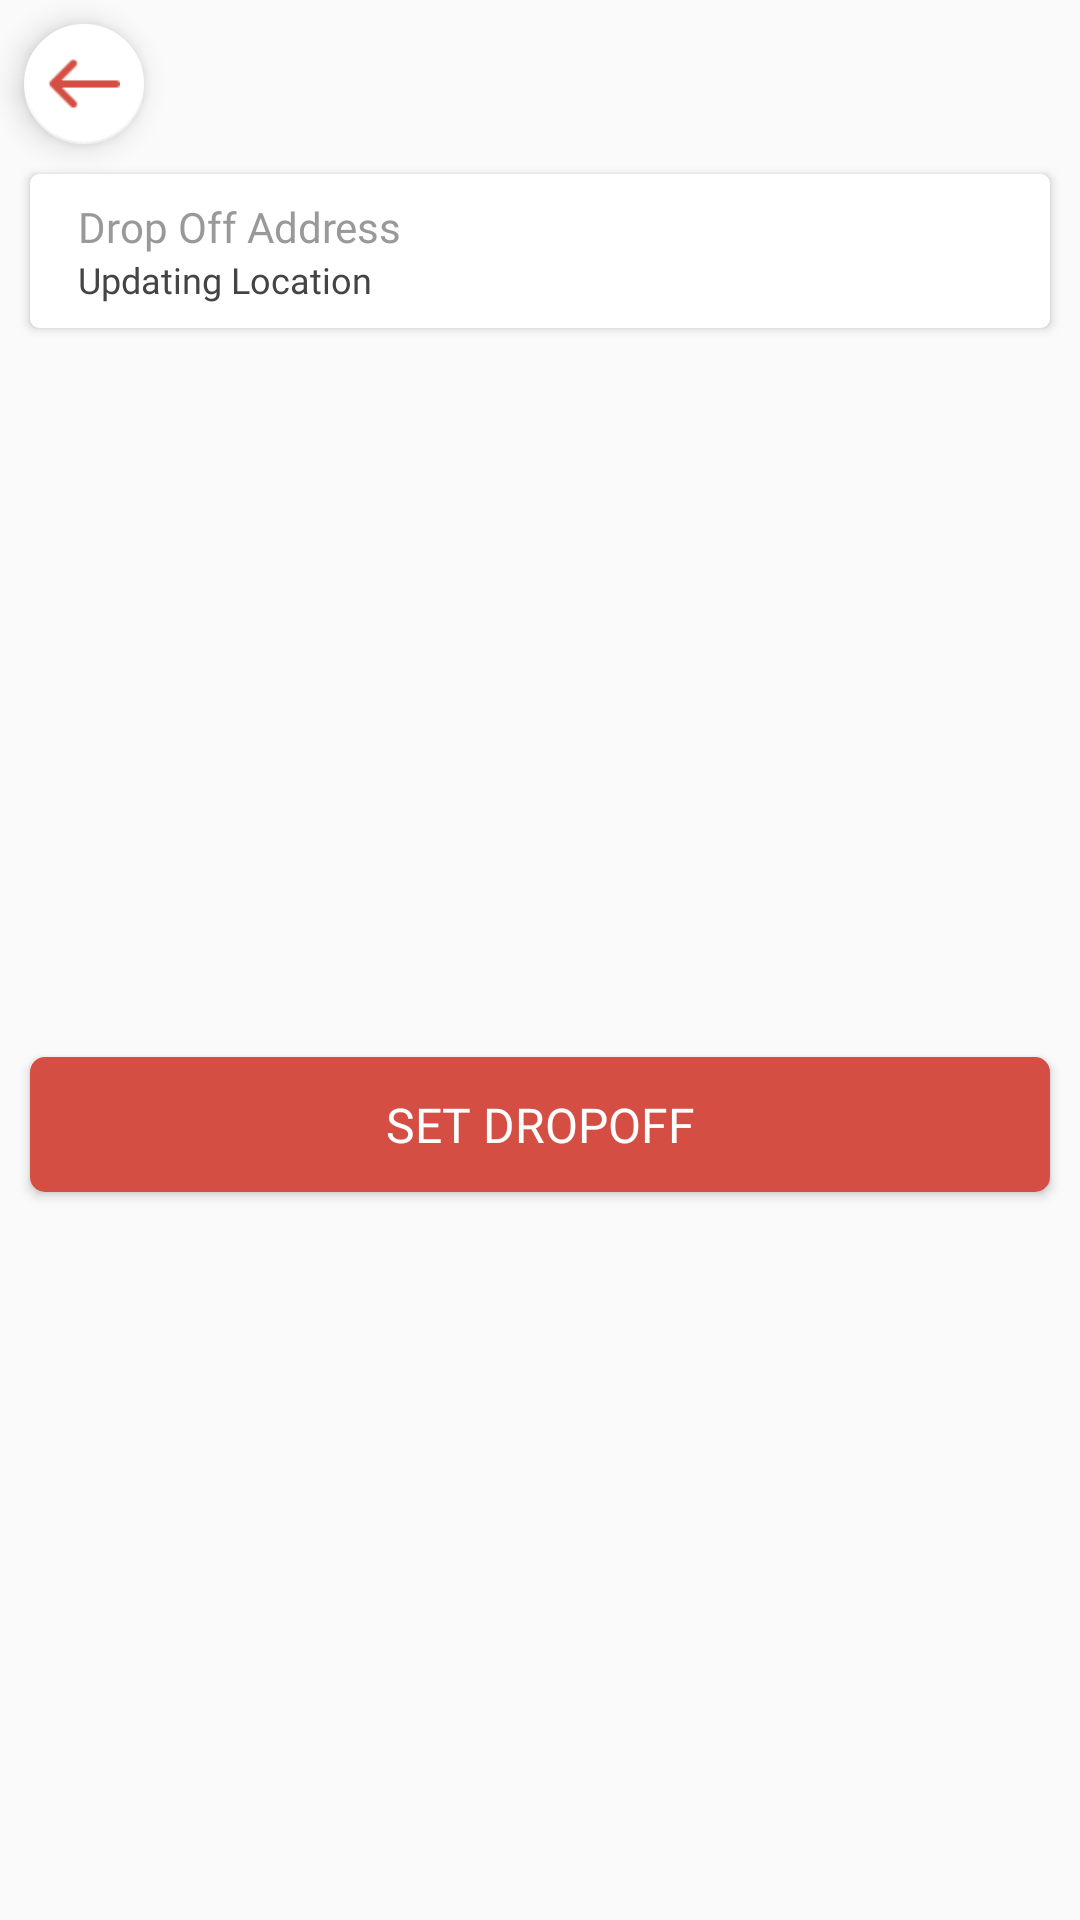

Icon bounding boxes for this 1080×1920 phone screenshot, format (x1, y1, x2, y2):
user db back: (24, 24, 144, 144)
